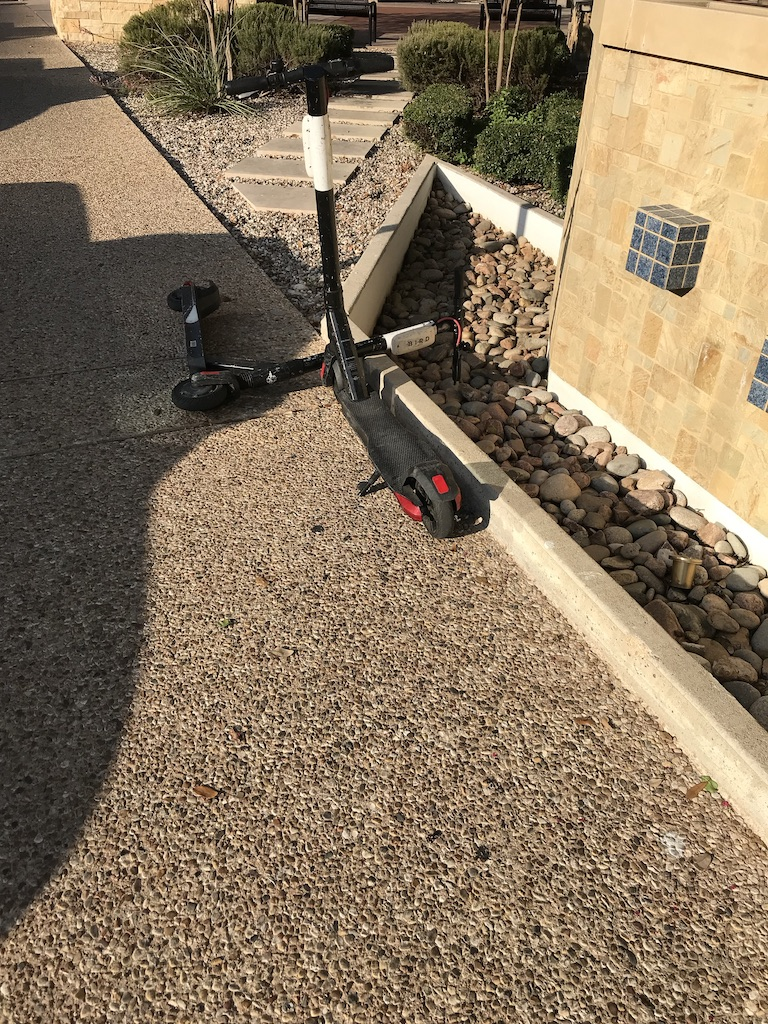scooter: (223, 55, 463, 539), (169, 278, 330, 410), (356, 271, 463, 385)
